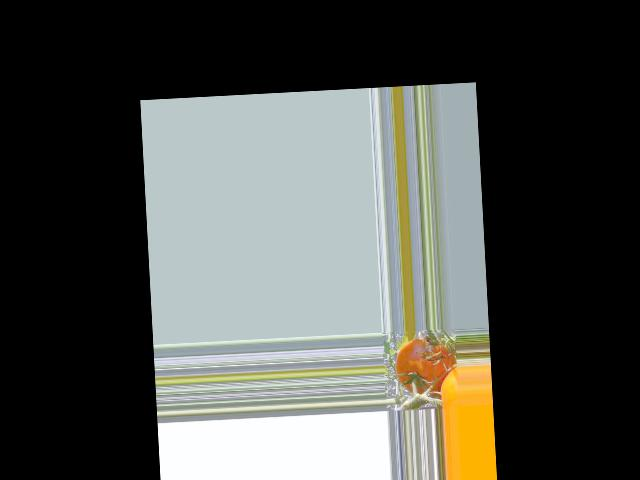tomato: (394, 335, 457, 395)
